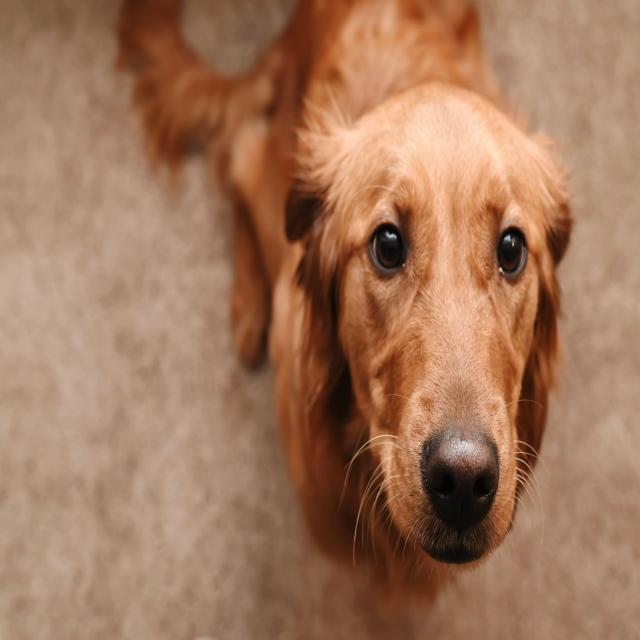Dog: (131, 0, 572, 568)
